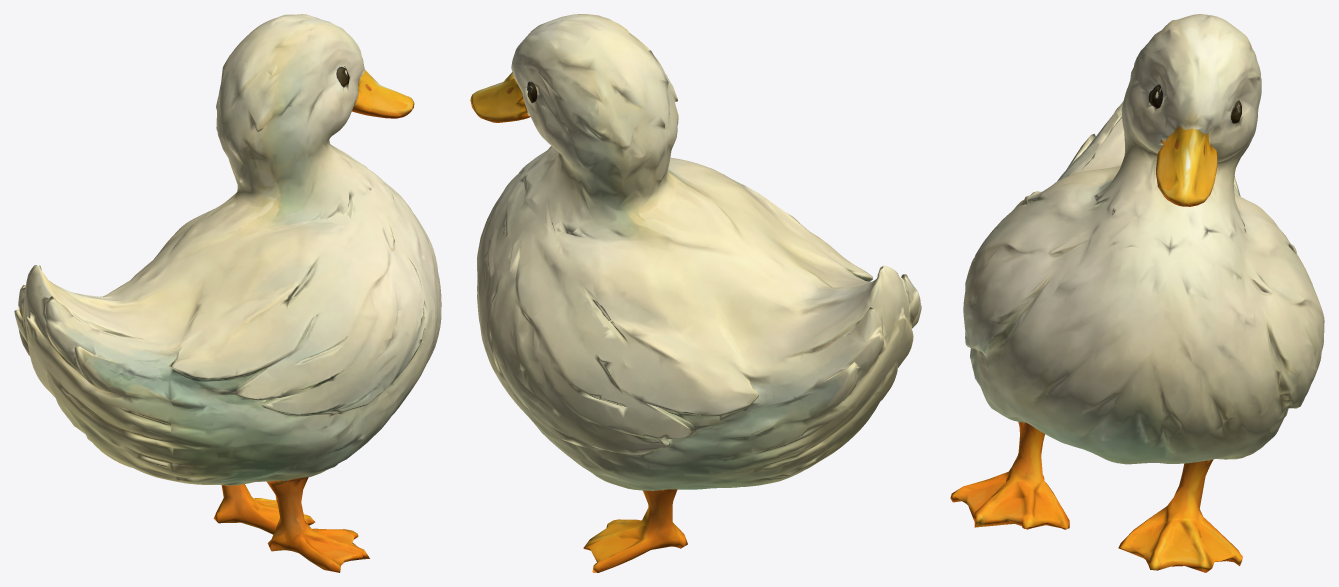
File: duck.glb
3 renders of one model, left to right at view 1: azimuth 30°, elevation 25°; view 2: azimuth 150°, elevation 25°; view 3: azimuth 270°, elevation 25°, orthographic. The views are drawn at different scales.
Parts seen in each view (by area): view 1: duck; view 2: duck; view 3: duck.
Boxes of the visible parts, left/top/right/bottom form: duck: left=14, top=14, right=441, bottom=572; duck: left=470, top=14, right=921, bottom=572; duck: left=950, top=14, right=1324, bottom=572.
Bounding box in the file's own units: 0.8218 × 0.9856 × 0.599.
Materials: 1 (1 with a texture image).
